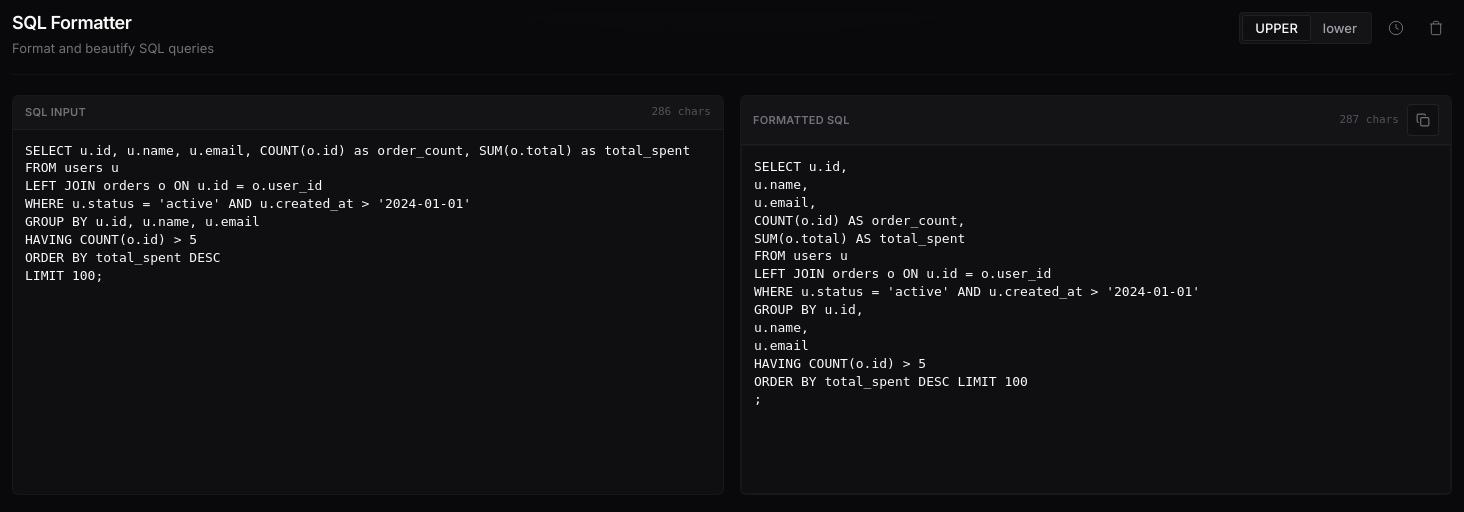
it: SqlTool › should convert keywords to uppercase
Replace the text in the text box named "SQL Input" with "select * from users where id = 1" at [368, 312], box [13,130,723,494]
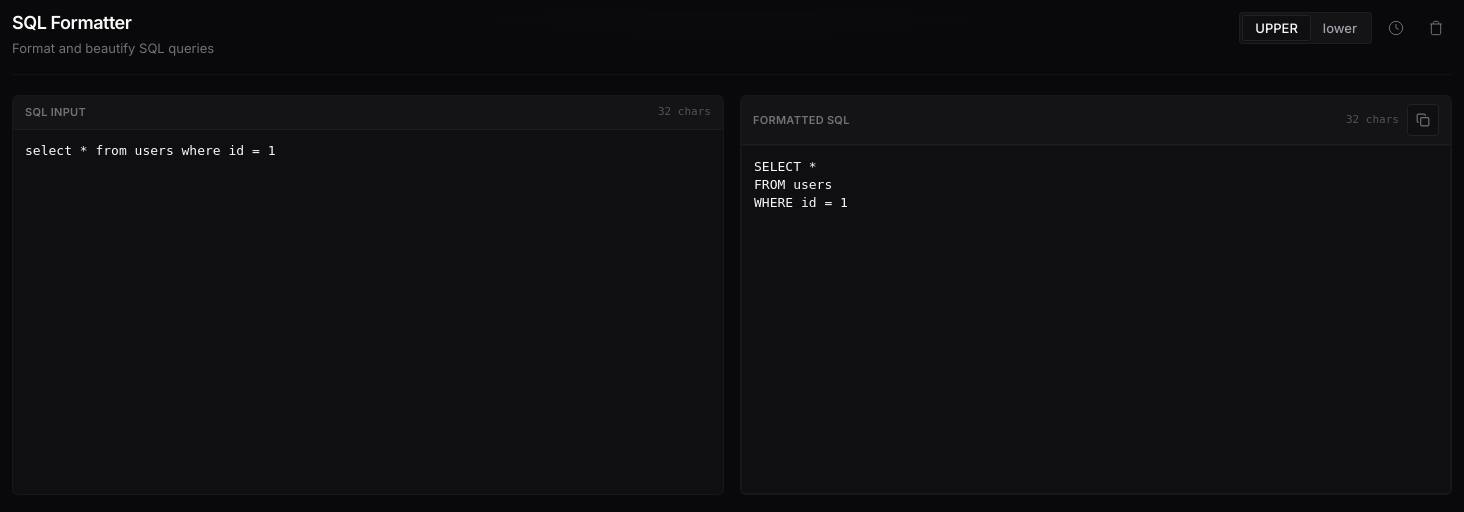
Now the text "SELECT * FROM users WHERE id = 1" is shown, box [741,145,1451,494]
